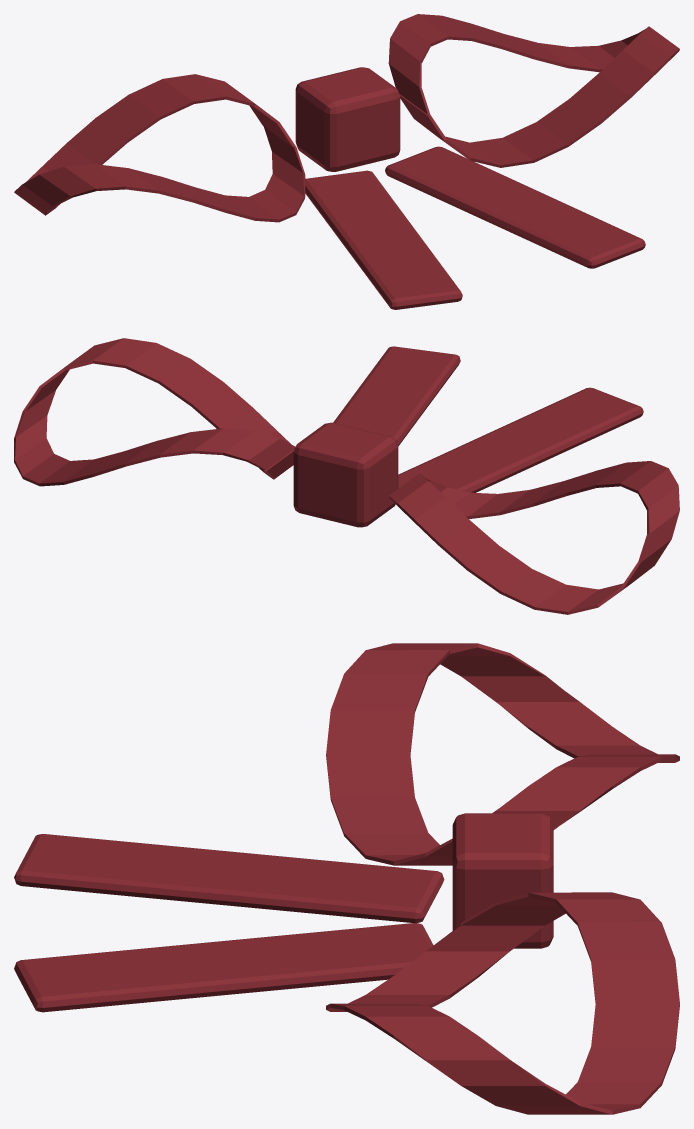
The model's file is story-ribbon.fbx.
3 views of the same model, one above another, from view 1: azimuth 30°, elevation 25°; view 2: azimuth 150°, elevation 25°; view 3: azimuth 270°, elevation 25° (orthographic). The views are drawn at different scales.
Visible parts, largest first — view 1: Ribbon loop.001, Ribbon loop, Trailing ribbon.001, Trailing ribbon, Central knot; view 2: Ribbon loop, Ribbon loop.001, Trailing ribbon, Central knot, Trailing ribbon.001; view 3: Ribbon loop.001, Ribbon loop, Trailing ribbon, Trailing ribbon.001, Central knot.
Boxes of the visible parts, bbox=[...] form: Ribbon loop.001: bbox=[388, 14, 679, 167]; Ribbon loop: bbox=[14, 74, 305, 222]; Trailing ribbon.001: bbox=[385, 146, 645, 268]; Trailing ribbon: bbox=[305, 170, 462, 309]; Central knot: bbox=[295, 67, 400, 171]; Ribbon loop: bbox=[389, 461, 679, 614]; Ribbon loop.001: bbox=[14, 338, 295, 486]; Trailing ribbon: bbox=[398, 387, 643, 492]; Central knot: bbox=[293, 422, 398, 527]; Trailing ribbon.001: bbox=[333, 346, 460, 445]; Ribbon loop.001: bbox=[326, 892, 679, 1114]; Ribbon loop: bbox=[326, 643, 679, 865]; Trailing ribbon: bbox=[14, 834, 444, 922]; Trailing ribbon.001: bbox=[14, 923, 433, 1012]; Central knot: bbox=[452, 813, 553, 948].
Size of the model in its own units: 0.231 by 0.026 by 0.1581.
